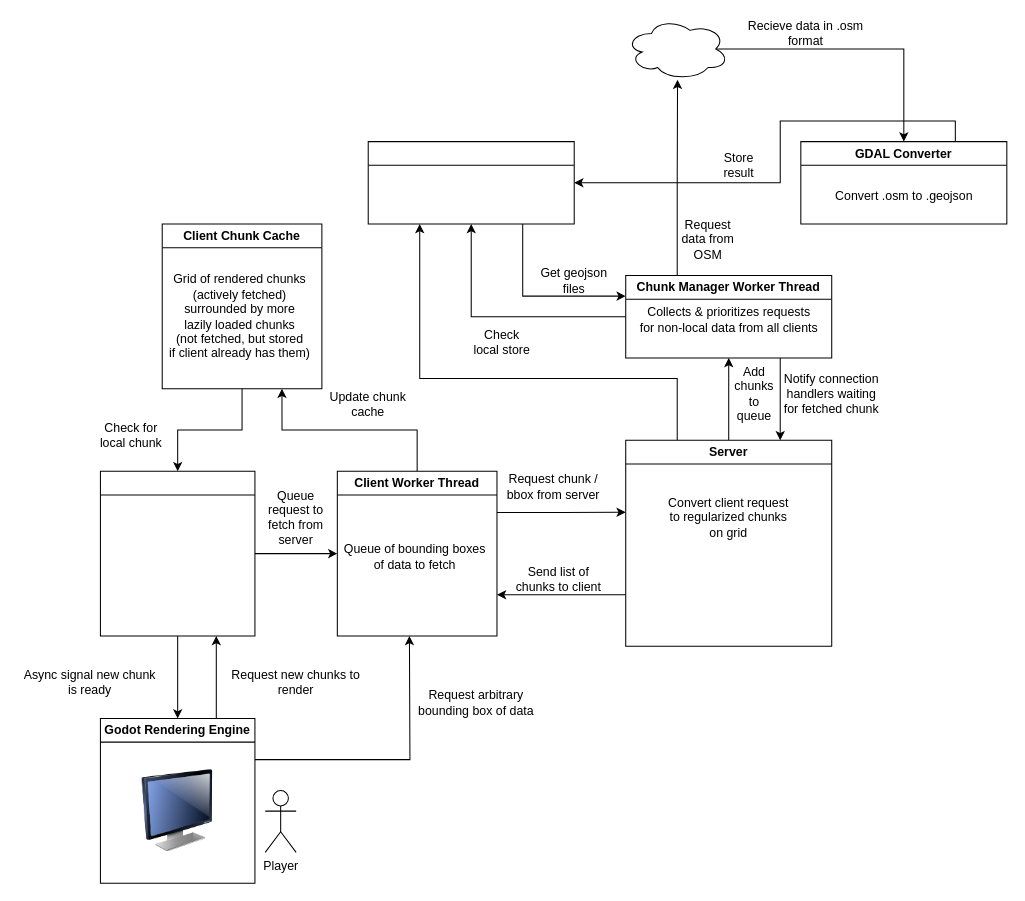
Image size: 1025x901. Some labels were removed from this diagram. Each missing label, with the centre of its shape:
"Client" belongs at (x=177, y=553).
"Local File Store" belongs at (x=470, y=182).
"OSM Database" belongs at (x=677, y=48).
